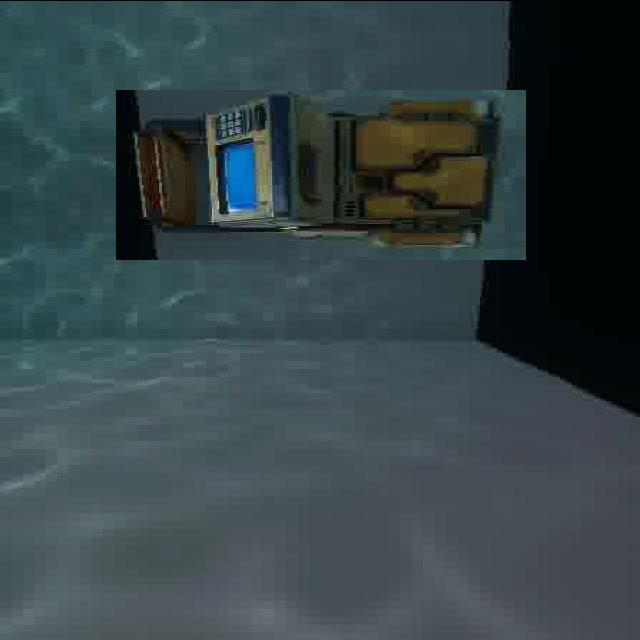Control Panel: (115, 89, 526, 259)
